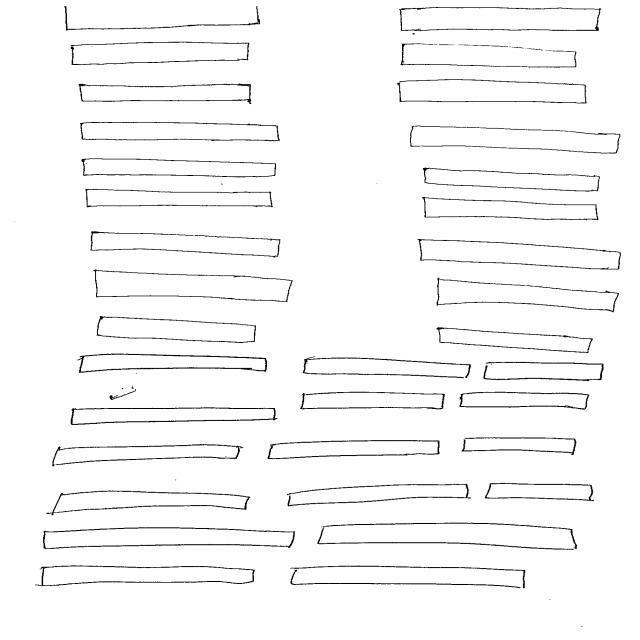textbox: (317, 523, 580, 552), (418, 238, 622, 272), (94, 269, 293, 303), (436, 279, 620, 314), (410, 126, 622, 156), (42, 528, 296, 550), (290, 566, 526, 589), (400, 7, 603, 32), (39, 565, 256, 588), (90, 232, 281, 258), (398, 80, 588, 105), (51, 492, 252, 515), (400, 43, 577, 69), (286, 483, 470, 508), (423, 168, 600, 193), (423, 197, 599, 222), (96, 317, 258, 344), (437, 327, 594, 354), (52, 445, 242, 467), (70, 407, 278, 427), (82, 158, 278, 179), (80, 122, 279, 142), (85, 189, 274, 210), (79, 354, 269, 374), (72, 42, 251, 63), (303, 357, 472, 379), (269, 440, 441, 461), (79, 84, 254, 103), (300, 392, 446, 411), (460, 391, 590, 409), (484, 362, 605, 381), (484, 483, 595, 502), (463, 438, 578, 455)
